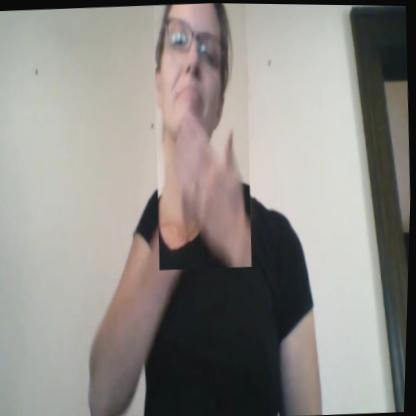ThankYou: (147, 2, 259, 270)
